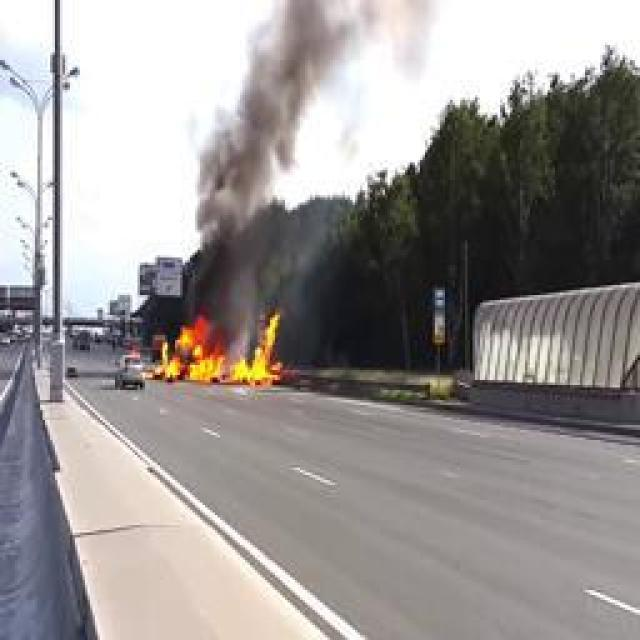Fire: (150, 316, 282, 386)
